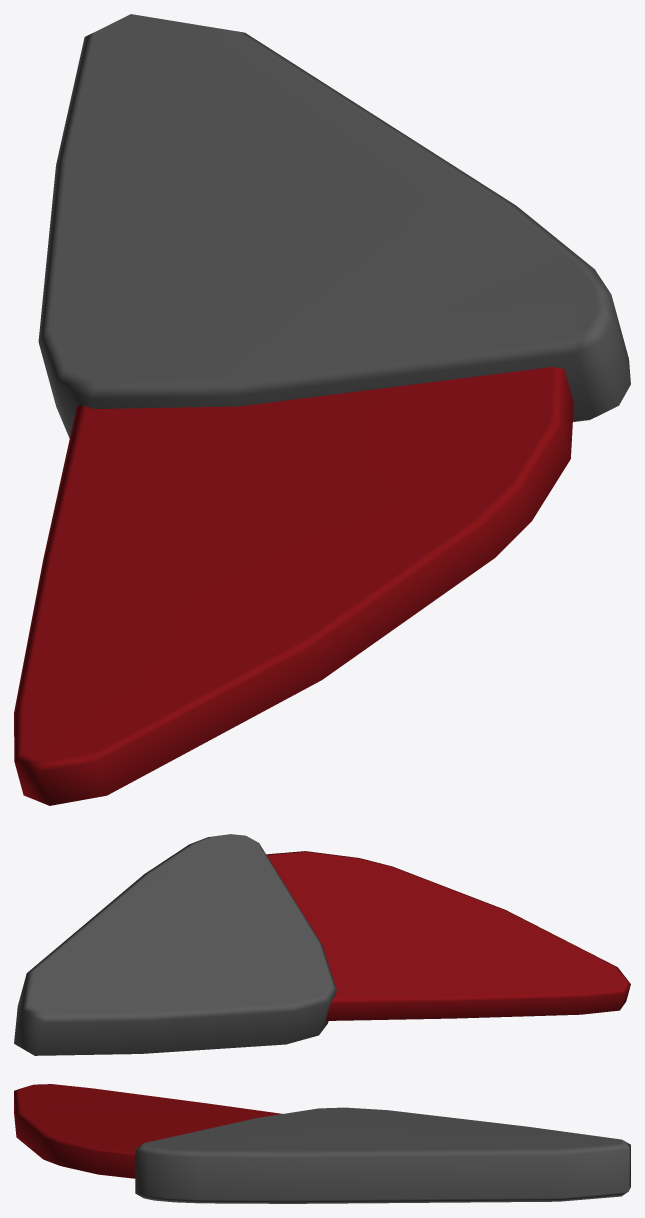
The model's file is Ship_enemy_05_Wing_R.fbx.
3 views of the same model, one above another, from view 1: azimuth 30°, elevation 25°; view 2: azimuth 150°, elevation 25°; view 3: azimuth 270°, elevation 25° (orthographic). The views are drawn at different scales.
Visible parts, largest first — view 1: Ship_enemy_05_Wing_R; view 2: Ship_enemy_05_Wing_R; view 3: Ship_enemy_05_Wing_R.
Boxes of the visible parts, box(x1,y1,x2,y2) form: Ship_enemy_05_Wing_R: box(14, 14, 630, 805); Ship_enemy_05_Wing_R: box(14, 834, 630, 1055); Ship_enemy_05_Wing_R: box(14, 1084, 630, 1203).
Bounding box in the file's own units: 189 × 63.93 × 253.
